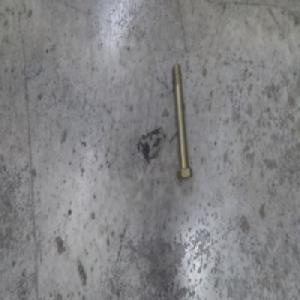Bolt: (170, 64, 192, 181)
